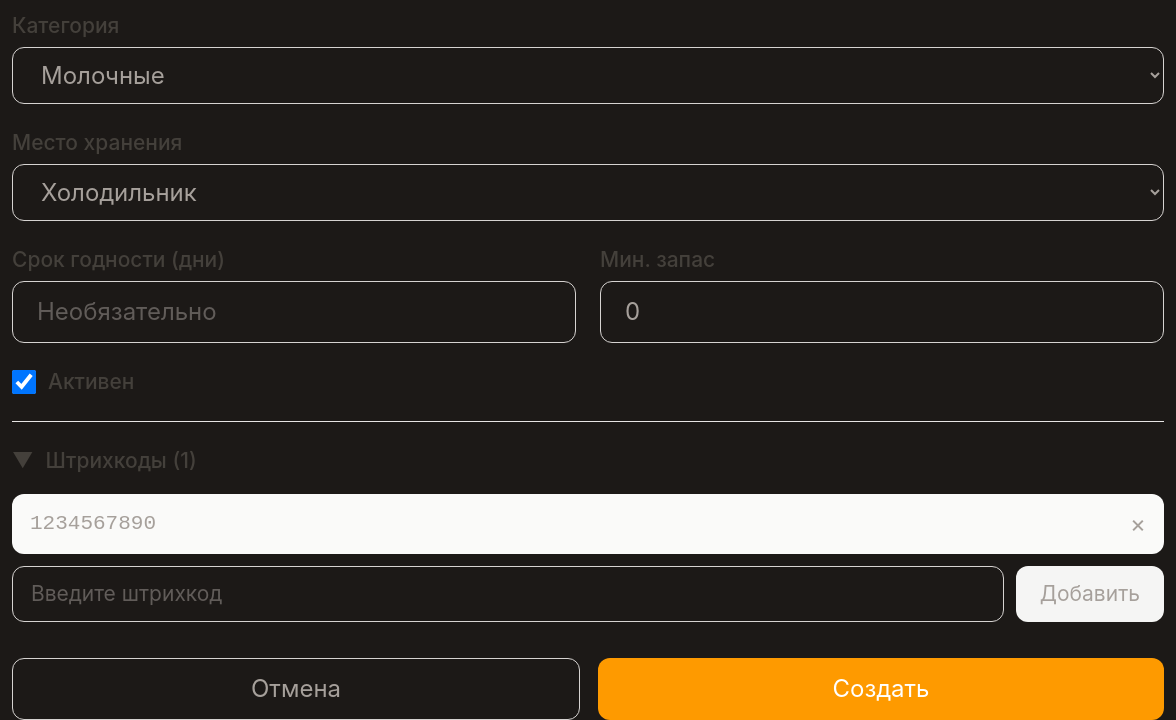
Scenario: ProductForm › removes barcode from list
(page scrolled)
Expected: the text "1234567890" is shown, x1=30 y1=509 x2=156 y2=539
Note: Remove barcode
Click the button "×": (1138,524) x1=1130 y1=506 x2=1146 y2=542
(page scrolled)
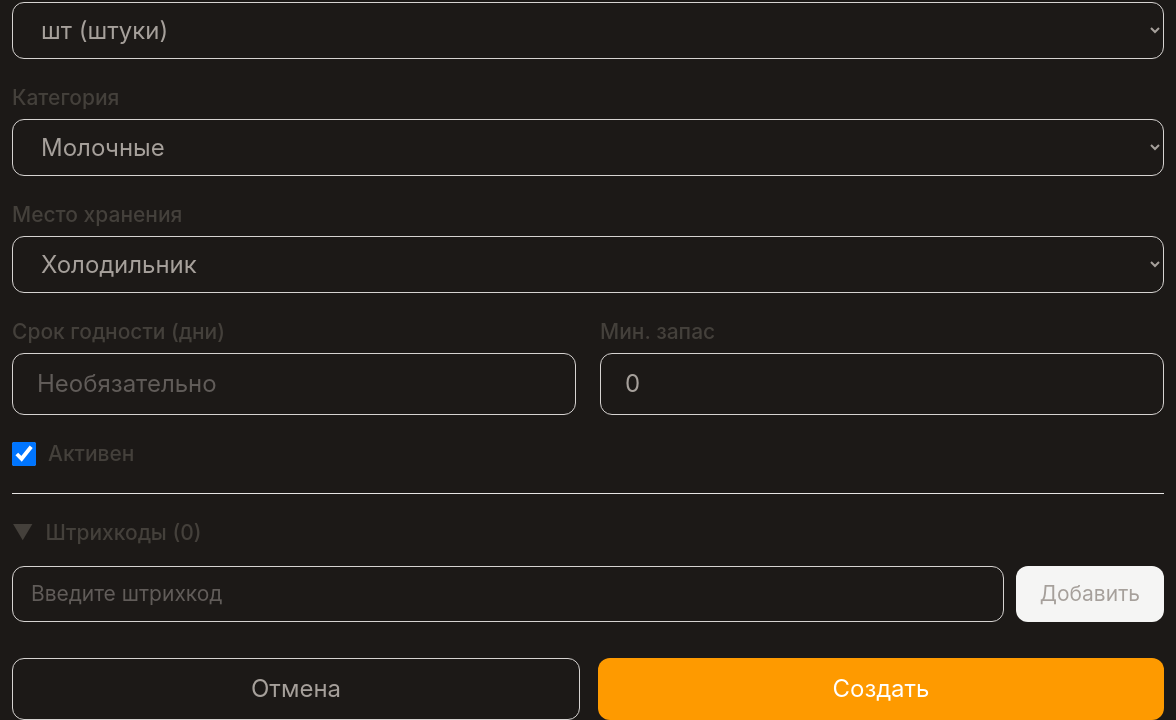
Expected: the text "1234567890" is gone
